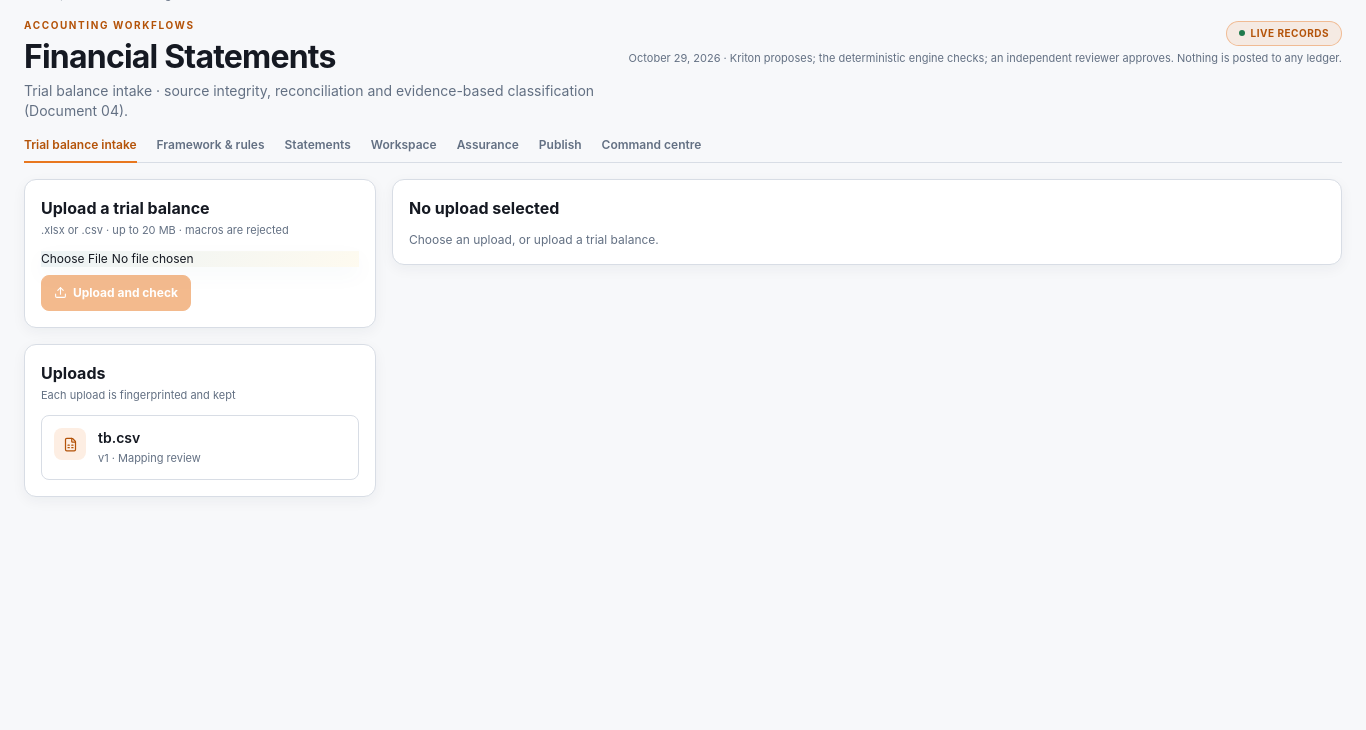
Test: Financial Statements — trial balance intake › keeps snapshot approval disabled until every check passes
What coordinates should you click on to do the following:
click the button "tb.csv v1 · Mapping review"
I would click on:
 (70, 444)
Its box is x1=42 y1=416 x2=358 y2=478.
(page scrolled)
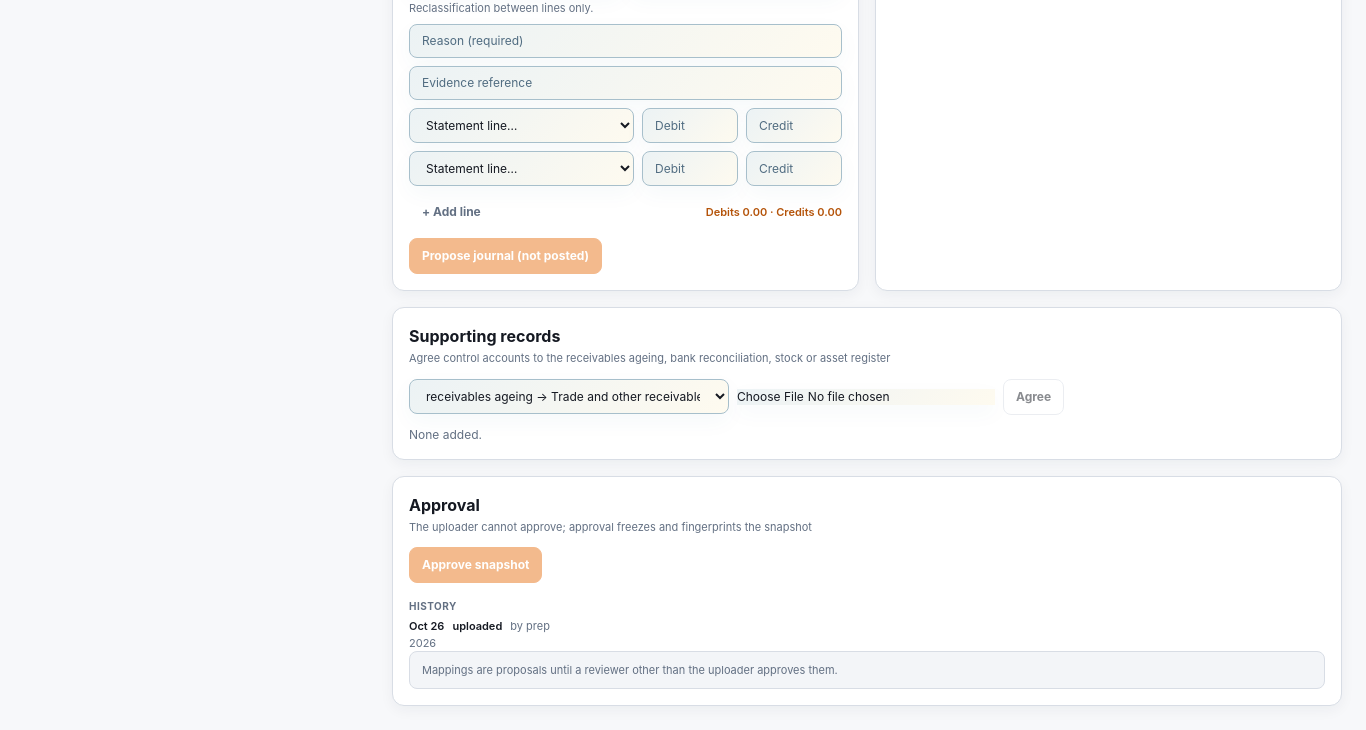
Expected: the button "Approve snapshot" is disabled, x1=409 y1=547 x2=542 y2=583
